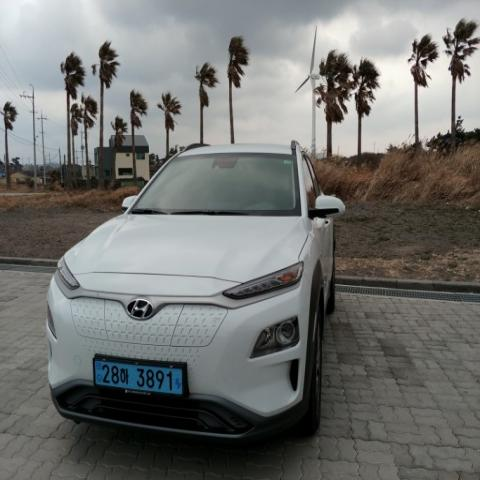LP: (87, 348, 188, 411)
